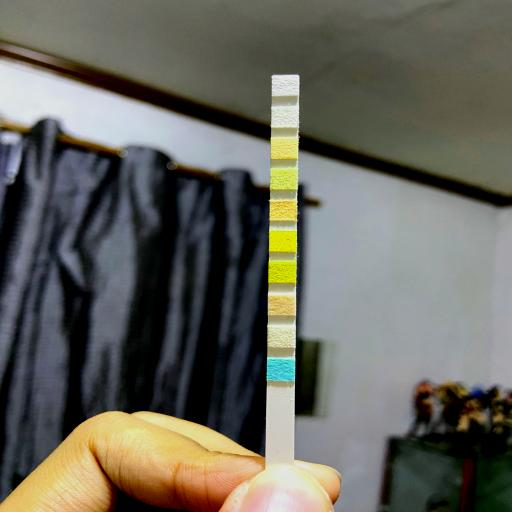Bilirubin: (270, 327, 294, 347)
Blood: (270, 232, 296, 250)
Glucose: (268, 360, 294, 380)
Ketone: (269, 296, 295, 314)
Leukocytes: (272, 76, 298, 95)
Nitrite: (273, 108, 297, 126)
Protein: (271, 170, 297, 188)
SpGravity: (270, 263, 294, 281)
Urobilinogen: (272, 140, 298, 158)
pH: (270, 202, 294, 220)
strip: (266, 76, 300, 464)
